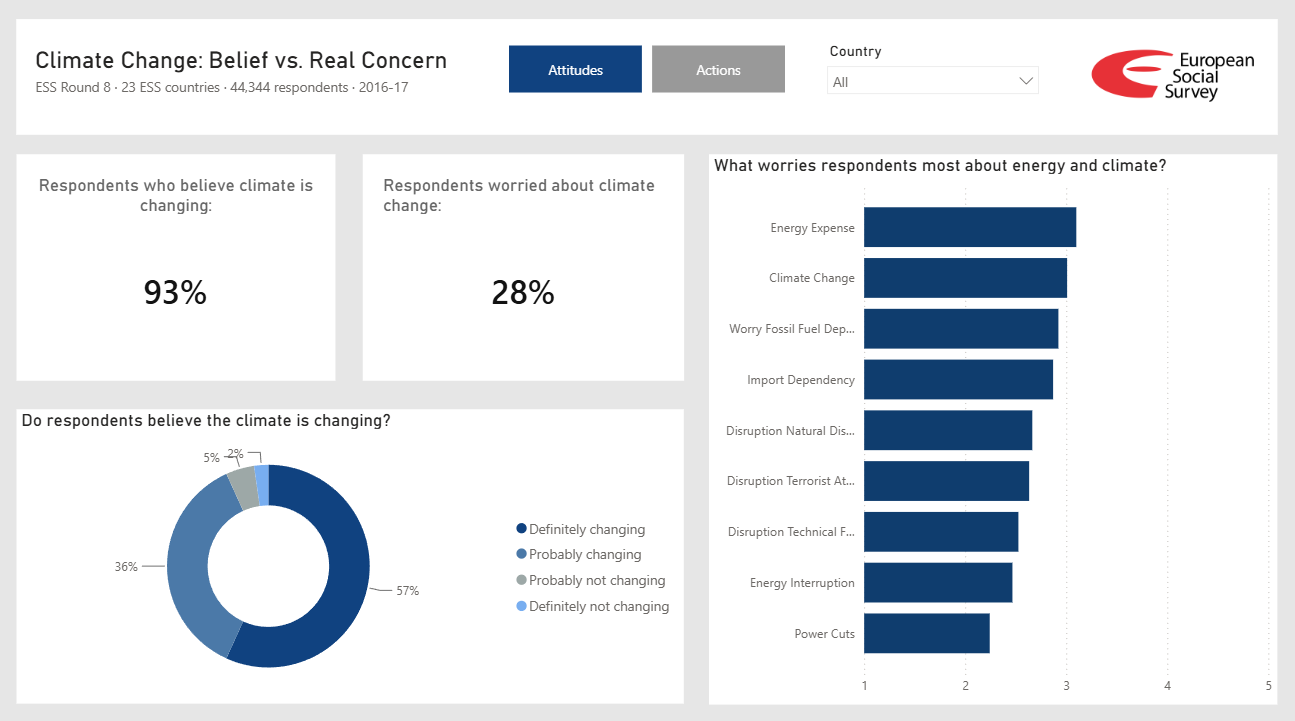

The page's visual inventory and layout, read from the dashboard file:
{"tool":"powerbi","page":{"name":"Attitudes","canvas":[1280,720],"ordinal":0},"visuals":[{"type":"shape","box":[22,25.7,1234,112.9],"z":0},{"type":"image","box":[1063.9,34.2,178.5,94.2],"z":1000},{"type":"slicer","fields":{"Values":["Country.Country"]},"box":[804.6,42.8,227.4,62.4],"z":2000},{"type":"clusteredBarChart","title":"What worries respondents most about energy and climate?","fields":{"Category":["Worry.Worry Category"],"Y":["Avg(Worry.Worry Score)"]},"box":[699.5,157.7,556.4,538],"z":3000},{"type":"cardVisual","title":"Respondents who believe climate is changing:","fields":{"Data":["Climate Beliefs.% Believe Climate Is Changing"]},"box":[22,157.7,311.8,221.3],"z":4000},{"type":"cardVisual","title":"Respondents worried about climate change:","fields":{"Data":["Climate Beliefs.% Worry About Climate Changing"]},"box":[360.7,157.7,314.3,221.3],"z":5000},{"type":"textbox","title":"Climate Change: Belief vs. Real Concern","box":[35.5,51.4,448.8,53.8],"z":6000},{"type":"pageNavigator","box":[503.8,51.4,271.5,46.5],"z":7000},{"type":"donutChart","title":"Do respondents believe the climate is changing?","fields":{"Category":["Climate Beliefs.Climate is Changhing Label"],"Y":["CountNonNull(Climate Beliefs.Climate Is Changing)"]},"box":[22,407.2,653.2,288.2],"z":8000}]}

Visuals, with their boxes in screenshot pixels (x1, y1, x2, y2), scaled from the page's 1280x720 canvas onto the 1295x721 screenshot:
shape: {"x1": 22, "y1": 26, "x2": 1271, "y2": 139}
image: {"x1": 1076, "y1": 34, "x2": 1257, "y2": 129}
slicer - Country.Country: {"x1": 814, "y1": 43, "x2": 1044, "y2": 105}
"What worries respondents most about energy and climate?" clusteredBarChart: {"x1": 708, "y1": 158, "x2": 1271, "y2": 697}
"Respondents who believe climate is changing:" cardVisual: {"x1": 22, "y1": 158, "x2": 338, "y2": 380}
"Respondents worried about climate change:" cardVisual: {"x1": 365, "y1": 158, "x2": 683, "y2": 380}
"Climate Change: Belief vs. Real Concern" textbox: {"x1": 36, "y1": 51, "x2": 490, "y2": 105}
pageNavigator: {"x1": 510, "y1": 51, "x2": 784, "y2": 98}
"Do respondents believe the climate is changing?" donutChart: {"x1": 22, "y1": 408, "x2": 683, "y2": 696}
